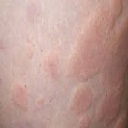Hives: (66, 1, 125, 76), (72, 82, 123, 124)
